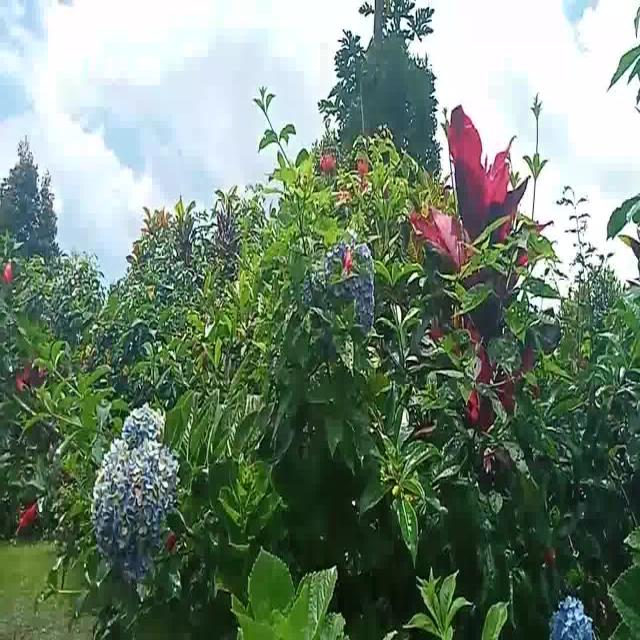Flower: (93, 408, 185, 575), (543, 588, 597, 640)
